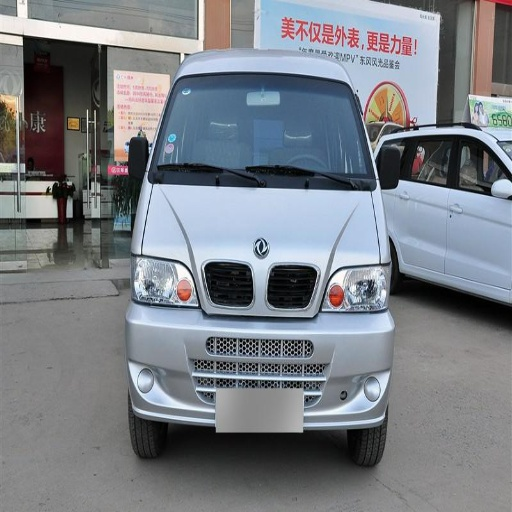front_bumper: (127, 262, 396, 432)
front_left_light: (322, 261, 392, 312)
front_right_door: (446, 136, 511, 286)
front_right_light: (132, 255, 195, 305)
hood: (147, 185, 384, 274)
